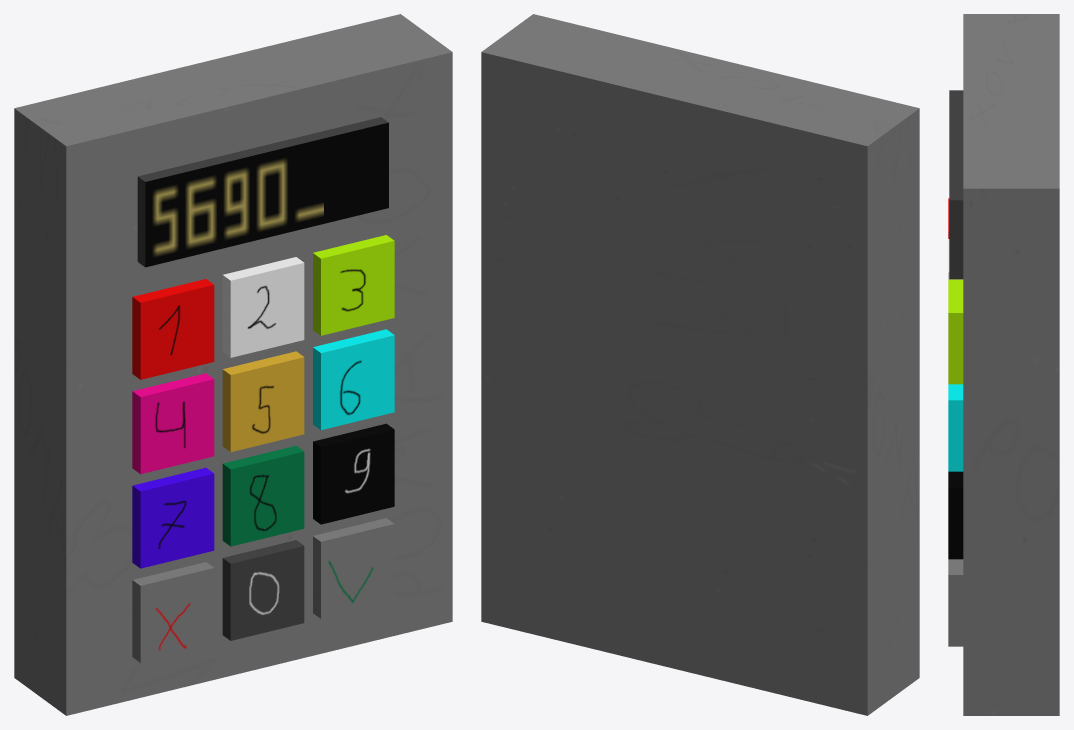
File: codelock.fbx
The picture shows the model from 3 angles, left to right: view 1: azimuth 30°, elevation 25°; view 2: azimuth 150°, elevation 25°; view 3: azimuth 270°, elevation 25°; orthographic projection. The views are drawn at different scales.
Visible parts, largest first — view 1: Cube; view 2: Cube; view 3: Cube.
Boxes of the visible parts, left/top/right/bottom form: Cube: left=14, top=14, right=452, bottom=715; Cube: left=481, top=14, right=919, bottom=715; Cube: left=948, top=14, right=1059, bottom=715.
Bounding box in the file's own units: 150 × 211 × 40.43.
